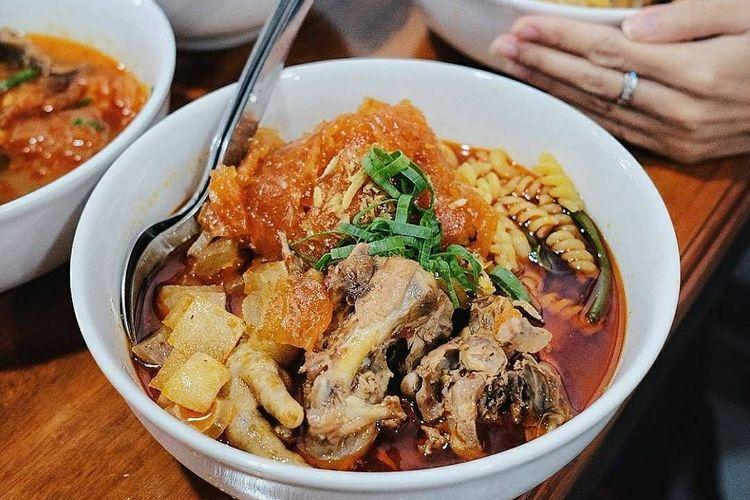seblak: (132, 103, 628, 464)
